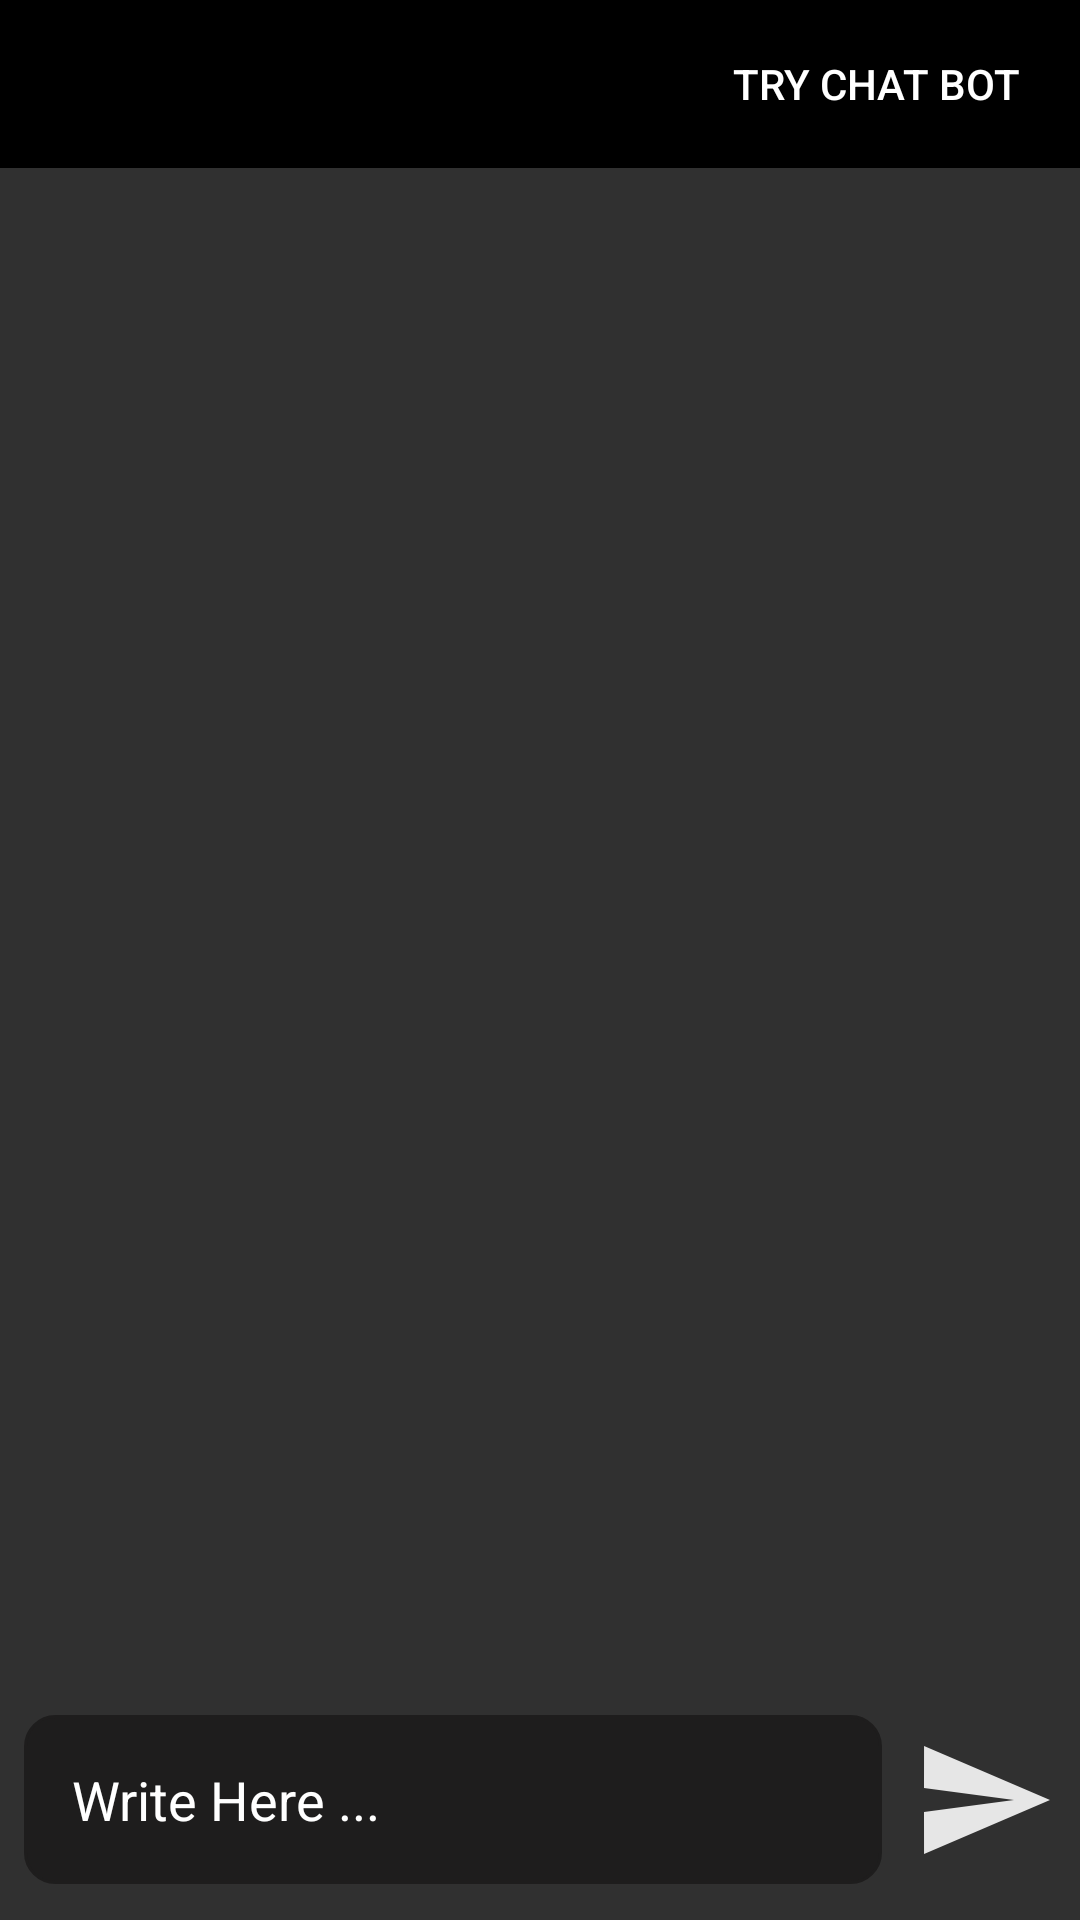

Where icons sit on this 1080w x 1920h app screen, as bbox(x1, y1, x2, y2):
send: bbox(924, 1746, 1050, 1854)
